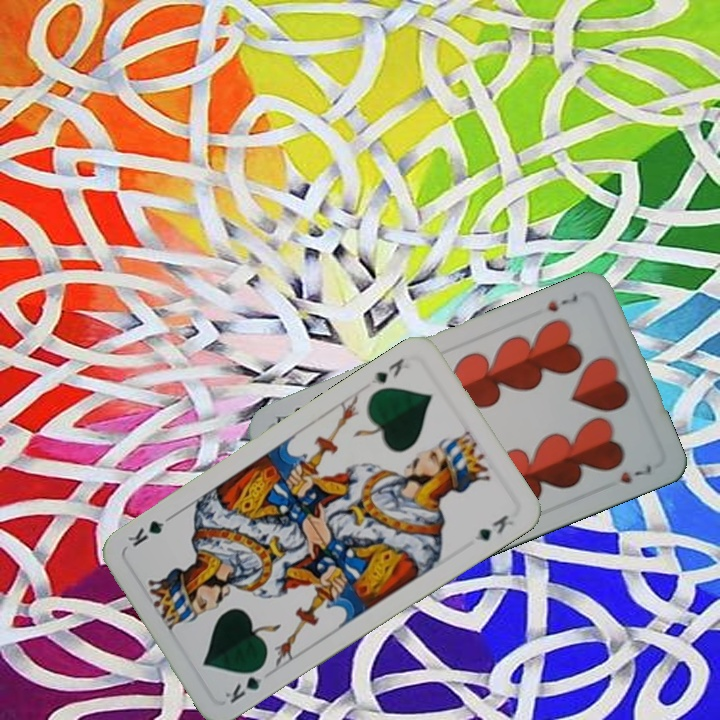GK: (220, 661, 268, 706), (367, 354, 407, 387)
H7: (543, 288, 581, 315)
